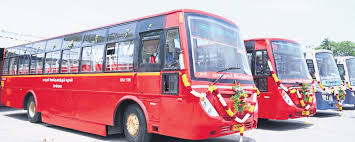bus: (1, 7, 259, 142), (242, 38, 317, 124), (304, 46, 346, 115), (334, 55, 355, 109)
